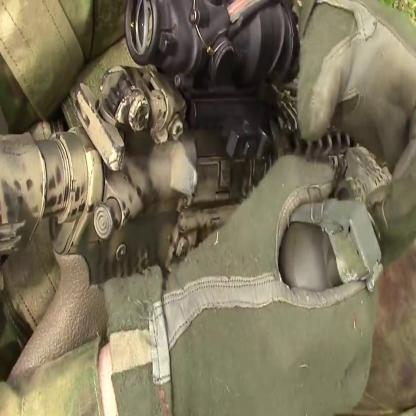Grenade: (278, 199, 385, 295)
Gun: (2, 1, 354, 382)
